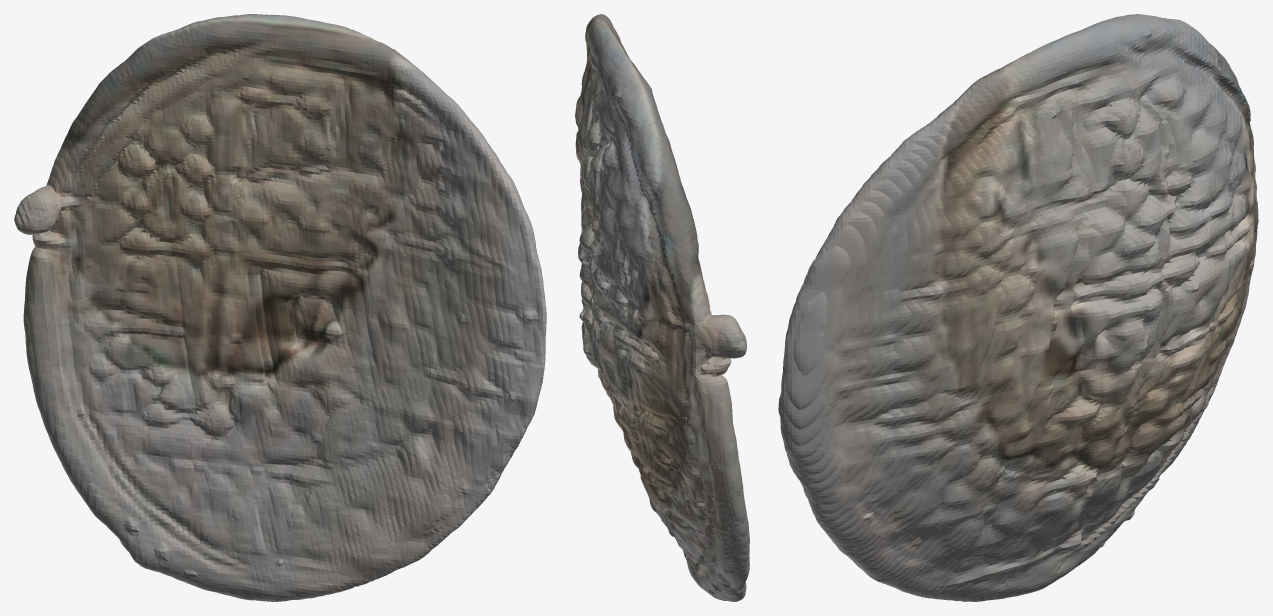
3 views of the same model, side by side, from view 1: azimuth 30°, elevation 25°; view 2: azimuth 150°, elevation 25°; view 3: azimuth 270°, elevation 25° (orthographic). The views are drawn at different scales.
Parts seen in each view (by area): view 1: geometry_0; view 2: geometry_0; view 3: geometry_0.
Boxes of the visible parts, box(x1,y1,x2,y2) form: geometry_0: box(14, 14, 546, 601); geometry_0: box(575, 14, 749, 601); geometry_0: box(778, 14, 1258, 601).
Bounding box in the file's own units: 0.4847 × 0.7643 × 0.556.
